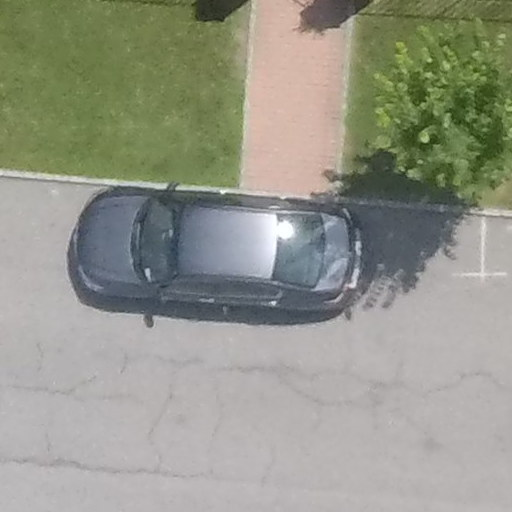car: (63, 160, 396, 347)
